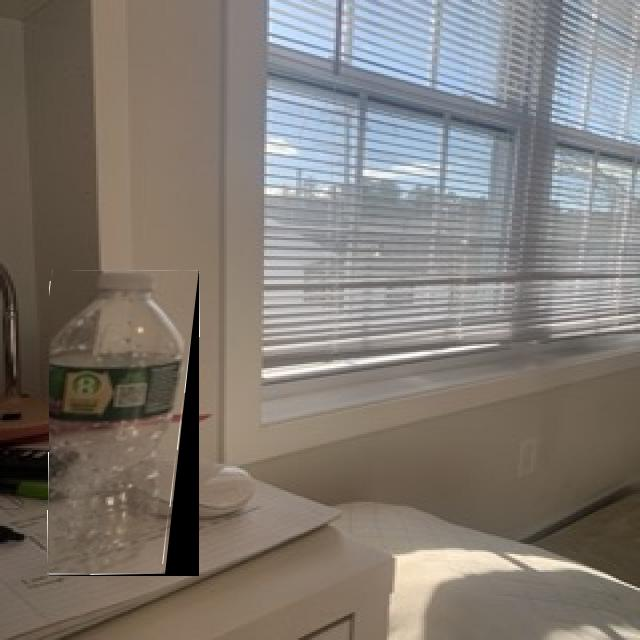water_bottle: (49, 270, 199, 576)
